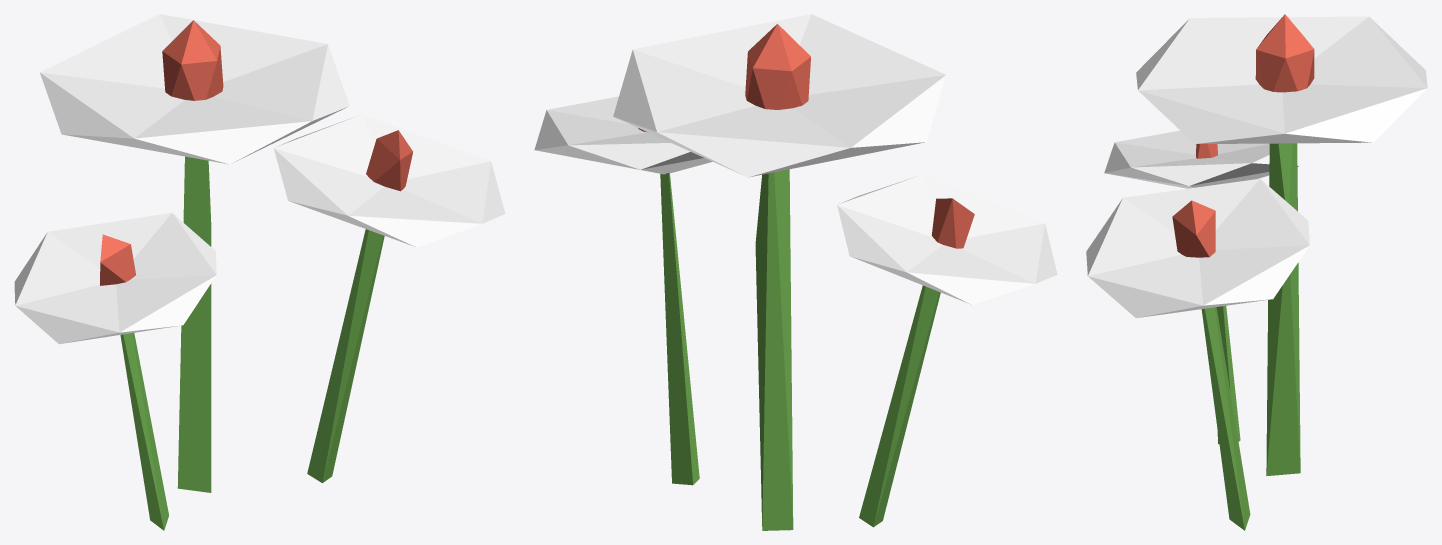
The model's file is Flower_01.fbx.
The picture shows the model from 3 angles, left to right: view 1: azimuth 30°, elevation 25°; view 2: azimuth 150°, elevation 25°; view 3: azimuth 270°, elevation 25°; orthographic projection. The views are drawn at different scales.
Parts seen in each view (by area): view 1: Flower_01; view 2: Flower_01; view 3: Flower_01.
Part boxes in pixels (<box>): Flower_01: <box>14,14,505,530</box>; Flower_01: <box>534,14,1057,530</box>; Flower_01: <box>1086,14,1427,530</box>.
Size of the model in its own units: 18.34 by 17.75 by 11.92.
